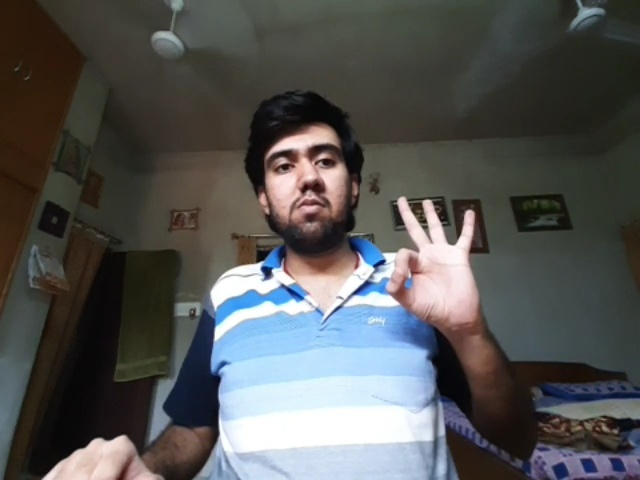Nice: (386, 196, 479, 325)
